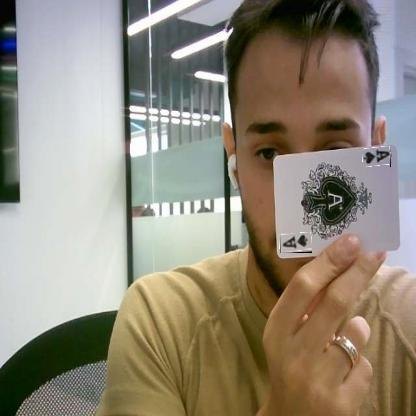AS: (280, 233, 312, 253), (363, 147, 391, 167)
